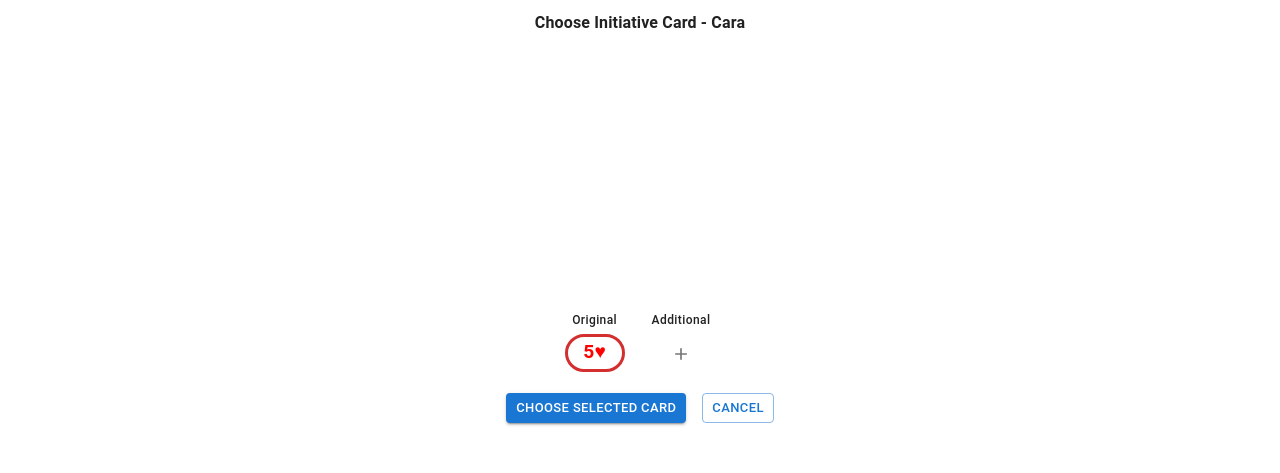
modals with a background page › card chooser: draws and Confirm go to the background; a failed save shows the error
Later steps or results of the test are not shown.
Click the button named "Draw additional card" at {"x": 681, "y": 354}, box [666,339,696,369]
Click the button "Choose Selected Card" at {"x": 596, "y": 408}, box [506,393,686,423]
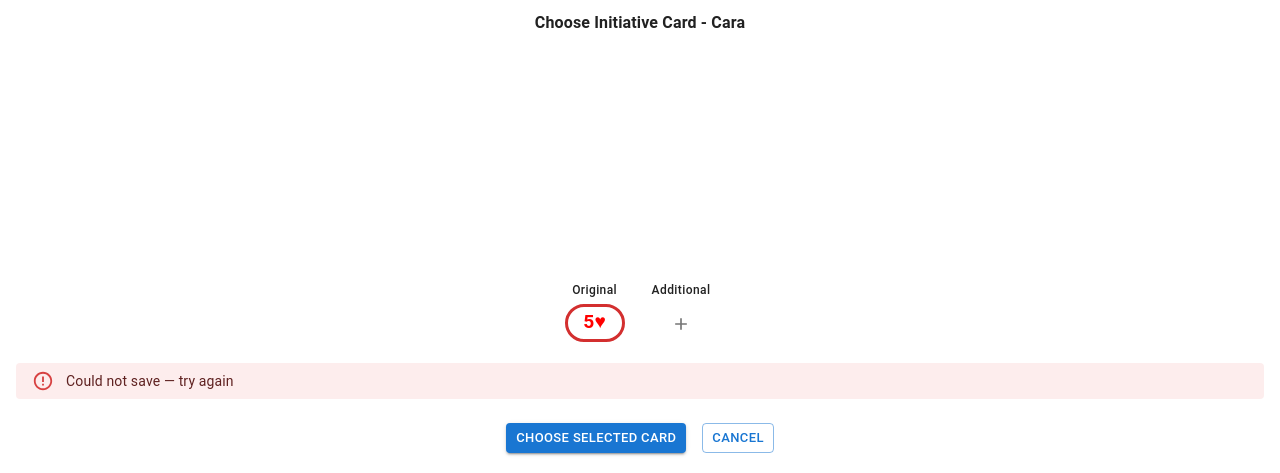
Expected: the message reads "Could not save — try again", [66,373,234,389]
